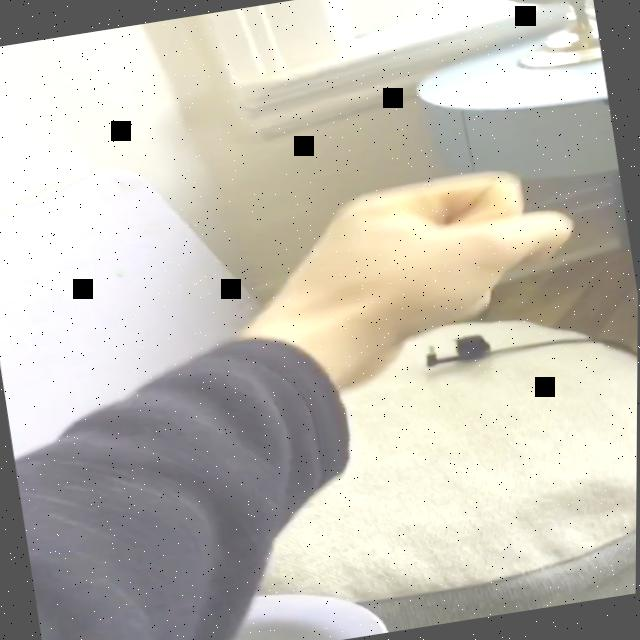Rock: (284, 156, 587, 356)
